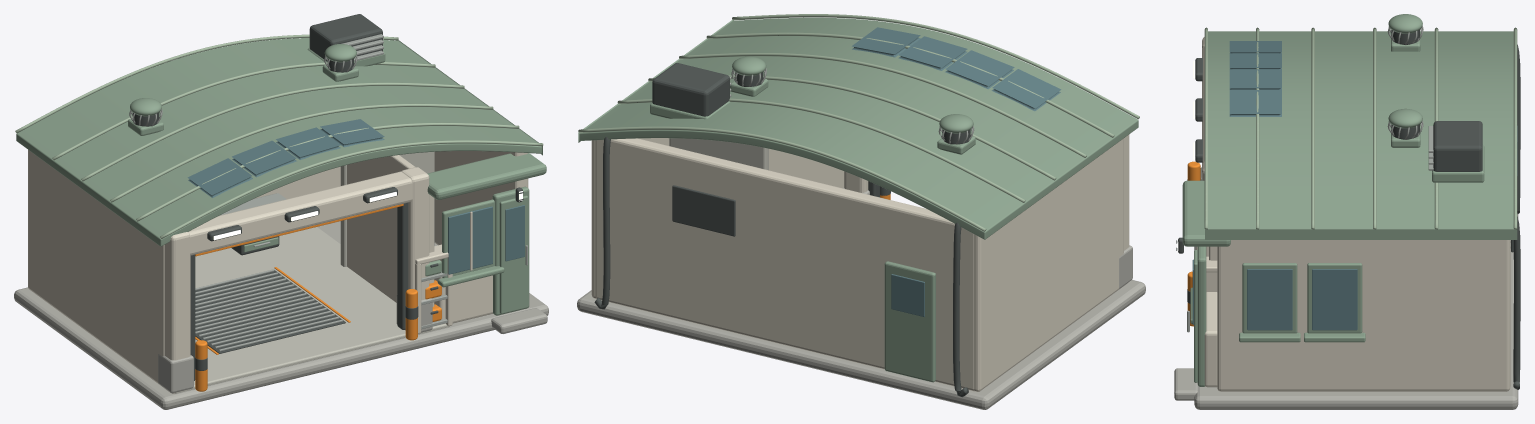
The model's file is road_maintenance_depot.glb.
3 views of the same model, side by side, from view 1: azimuth 30°, elevation 25°; view 2: azimuth 150°, elevation 25°; view 3: azimuth 270°, elevation 25° (orthographic). The views are drawn at different scales.
Parts seen in each view (by area): view 1: Soft barrel roof, Left structural wall, Garage service floor, Shallow building foundation, Main front lintel, Office left partition, Service trench dark inset, Office shallow canopy, Bay rounded structural pier -3.43, Office front glazed pane, Bay rounded structural pier 1.35, Right structural wall (+28 smaller); view 2: Rear structural wall, Soft barrel roof, Left structural wall, Shallow building foundation, Rear service door, Rear roof exhaust housing, Rear wall ventilation recess, Roof curved standing seam 2.58, Roof curved standing seam -2.43, Office back partition, Roof curved standing seam -0.70, Office left partition (+15 smaller); view 3: Soft barrel roof, Right structural wall, Shallow building foundation, Office side glass -0.35, Office side glass -1.4, Rear roof exhaust housing, Office shallow canopy, Roof skylight 3, Office door frame, Office front lower wall, Office side window frame -1.4, Office side window frame -0.35 (+18 smaller).
Part boxes in pixels (x1,y1,x2,y2): Soft barrel roof: [16, 38, 542, 246]; Left structural wall: [28, 150, 164, 387]; Garage service floor: [175, 227, 449, 393]; Shallow building foundation: [14, 221, 548, 409]; Main front lintel: [168, 171, 412, 255]; Office left partition: [347, 155, 434, 306]; Service trench dark inset: [195, 270, 345, 353]; Office shallow canopy: [427, 153, 546, 199]; Bay rounded structural pier -3.43: [163, 232, 190, 393]; Office front glazed pane: [448, 206, 492, 274]; Bay rounded structural pier 1.35: [401, 167, 429, 300]; Right structural wall: [434, 151, 528, 245]; Rear structural wall: [595, 138, 974, 391]; Soft barrel roof: [578, 17, 1138, 239]; Left structural wall: [974, 138, 1123, 391]; Shallow building foundation: [577, 280, 1145, 409]; Rear service door: [884, 261, 935, 382]; Rear roof exhaust housing: [652, 63, 729, 116]; Rear wall ventilation recess: [672, 185, 735, 236]; Roof curved standing seam 2.58: [578, 126, 986, 231]; Roof curved standing seam -2.43: [732, 14, 1139, 119]; Office back partition: [669, 138, 768, 170]; Roof curved standing seam -0.70: [679, 53, 1086, 157]; Office left partition: [769, 149, 843, 188]; Soft barrel roof: [1205, 31, 1517, 239]; Right structural wall: [1217, 240, 1510, 391]; Shallow building foundation: [1194, 214, 1518, 409]; Office side glass -0.35: [1312, 269, 1357, 330]; Office side glass -1.4: [1247, 269, 1292, 330]; Rear roof exhaust housing: [1433, 121, 1482, 171]; Office shallow canopy: [1182, 180, 1230, 246]; Roof skylight 3: [1229, 90, 1281, 116]; Office door frame: [1197, 246, 1206, 386]; Office front lower wall: [1204, 292, 1217, 387]; Office side window frame -1.4: [1242, 263, 1297, 333]; Office side window frame -0.35: [1307, 263, 1362, 333].
Size of the model in its own units: 7.75 by 4.32 by 5.61.
